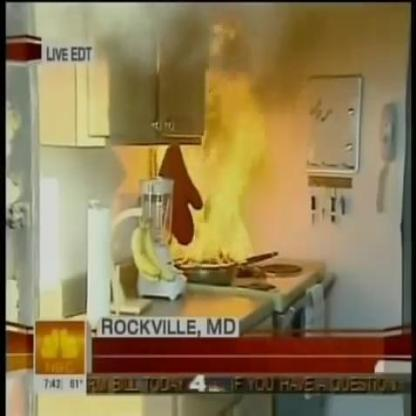fire: (162, 33, 275, 267)
